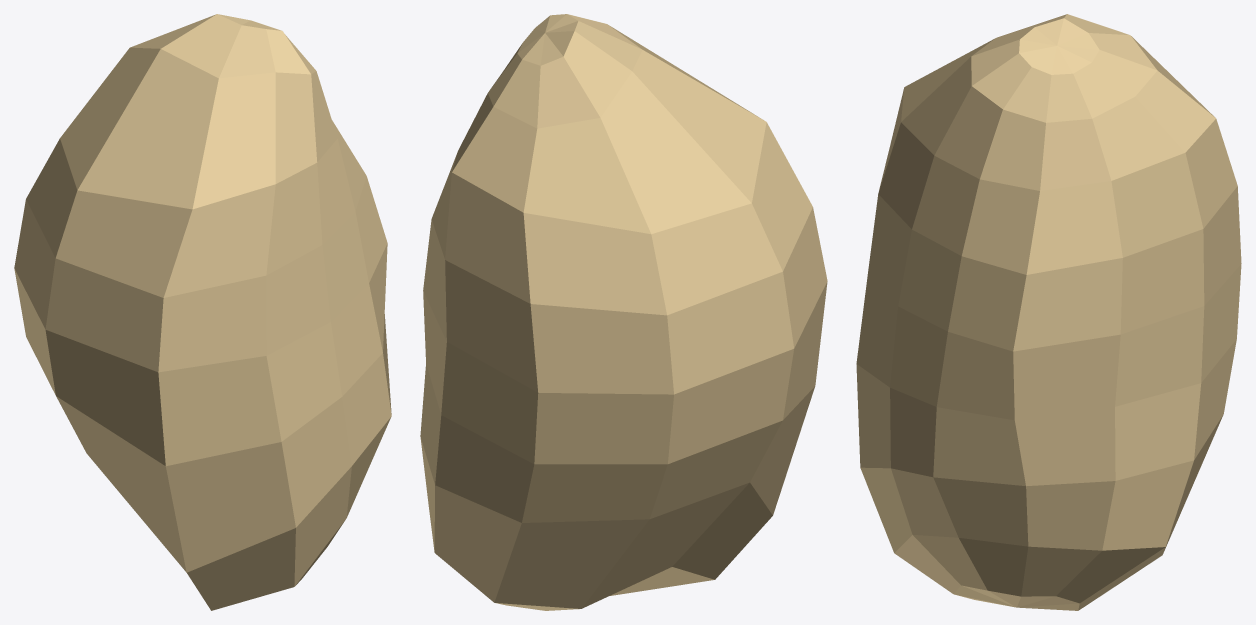
The model's file is Potato.fbx.
3 views of the same model, side by side, from view 1: azimuth 30°, elevation 25°; view 2: azimuth 150°, elevation 25°; view 3: azimuth 270°, elevation 25° (orthographic). The views are drawn at different scales.
Visible parts, largest first — view 1: pasted__pasted__pSphere1; view 2: pasted__pasted__pSphere1; view 3: pasted__pasted__pSphere1.
Part boxes in pixels (box(x1,y1,x2,y2)): pasted__pasted__pSphere1: box(14, 14, 391, 610); pasted__pasted__pSphere1: box(420, 14, 827, 610); pasted__pasted__pSphere1: box(856, 14, 1241, 610).
Bounding box in the file's own units: 1.02 × 1.61 × 0.9751.
